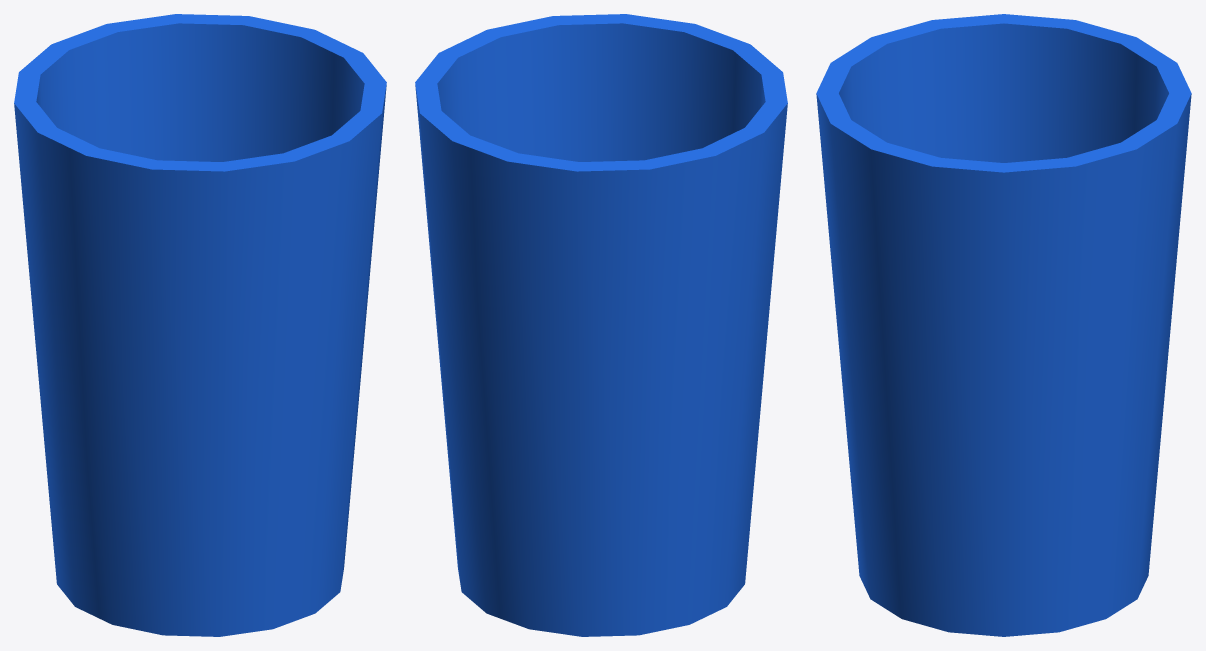
File: blue_cup.fbx
3 renders of one model, left to right at view 1: azimuth 30°, elevation 25°; view 2: azimuth 150°, elevation 25°; view 3: azimuth 270°, elevation 25°, orthographic.
Parts seen in each view (by area): view 1: Cylinder.001; view 2: Cylinder.001; view 3: Cylinder.001.
Part boxes in pixels (<box>): Cylinder.001: <box>14,14,386,636</box>; Cylinder.001: <box>415,14,787,636</box>; Cylinder.001: <box>816,14,1191,636</box>.
Bounding box in the file's own units: 14.8 × 21 × 14.8.
